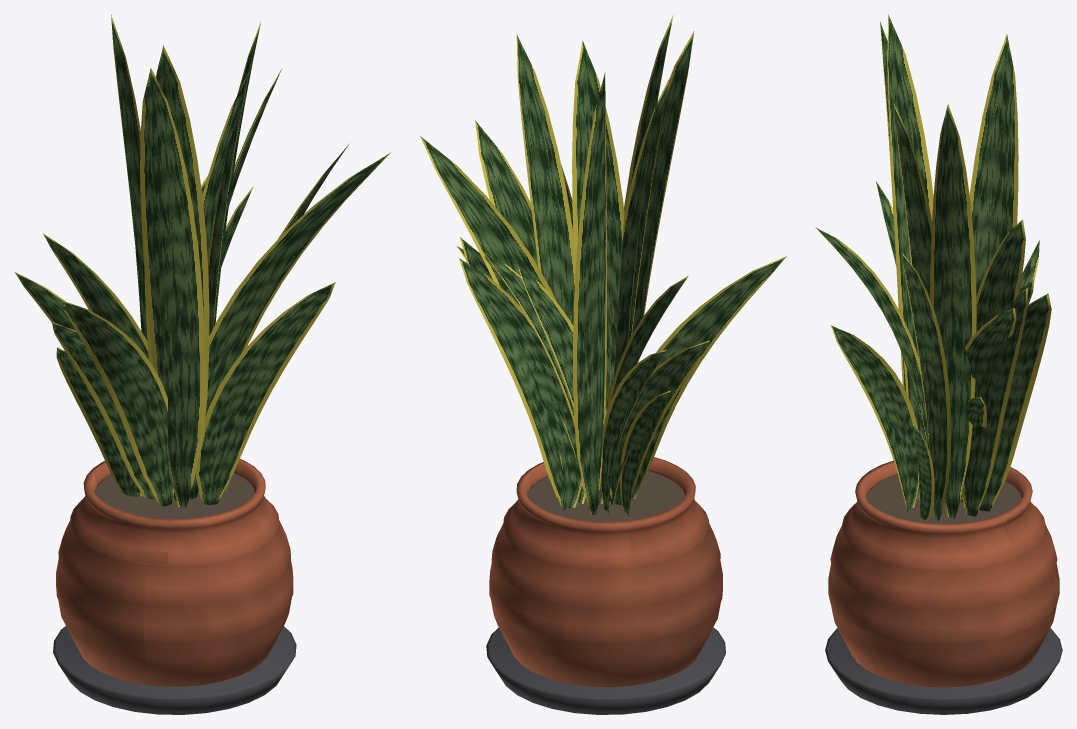
Rendered from potted_plant.glb.
3 renders of one model, left to right at view 1: azimuth 30°, elevation 25°; view 2: azimuth 150°, elevation 25°; view 3: azimuth 270°, elevation 25°, orthographic. The views are drawn at different scales.
Parts seen in each view (by area): view 1: potted_plant; view 2: potted_plant; view 3: potted_plant.
Boxes of the visible parts, bbox=[...] form: potted_plant: bbox=[15, 14, 390, 714]; potted_plant: bbox=[420, 15, 786, 714]; potted_plant: bbox=[815, 14, 1062, 714].
Bounding box in the file's own units: 0.5444 × 1.12 × 0.3958.
Materials: 4 (2 with a texture image).
